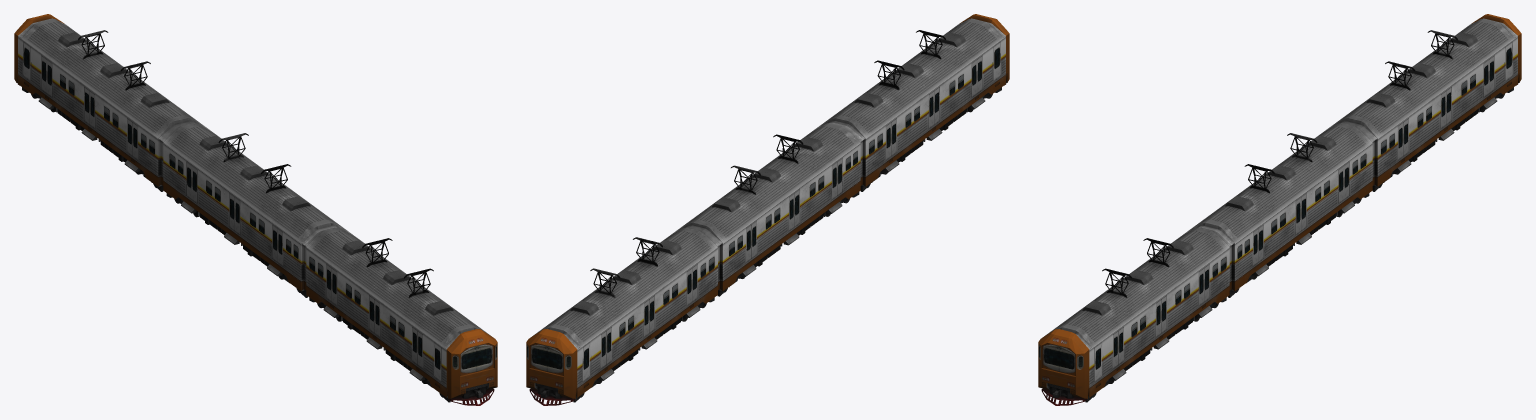
The model's file is electric.gltf.
3 views of the same model, side by side, from view 1: azimuth 30°, elevation 25°; view 2: azimuth 150°, elevation 25°; view 3: azimuth 330°, elevation 25° (orthographic).
Visible parts, largest first — view 1: ElectricTrain; view 2: ElectricTrain; view 3: ElectricTrain.
Boxes of the visible parts, box(x1,y1,x2,y2) form: ElectricTrain: box(14, 14, 497, 405); ElectricTrain: box(526, 14, 1009, 405); ElectricTrain: box(1038, 14, 1521, 405).
Size of the model in its own units: 4.78 by 7.87 by 70.56.
1 material, 1 textured.
